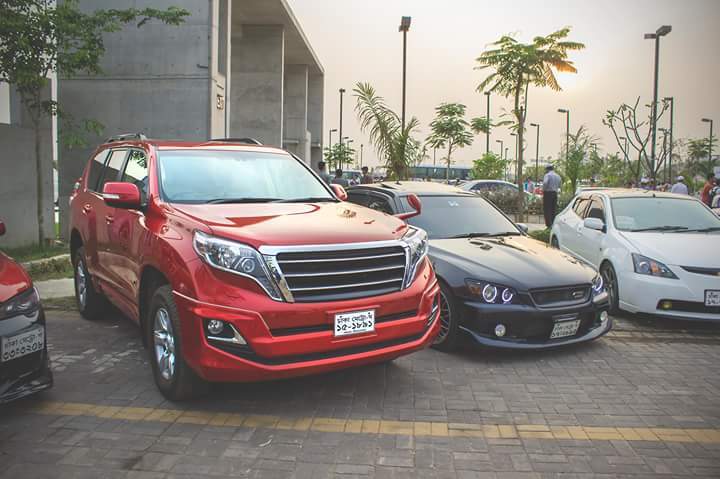registration_plate: (1, 326, 45, 362), (334, 309, 374, 336), (550, 319, 581, 339)
